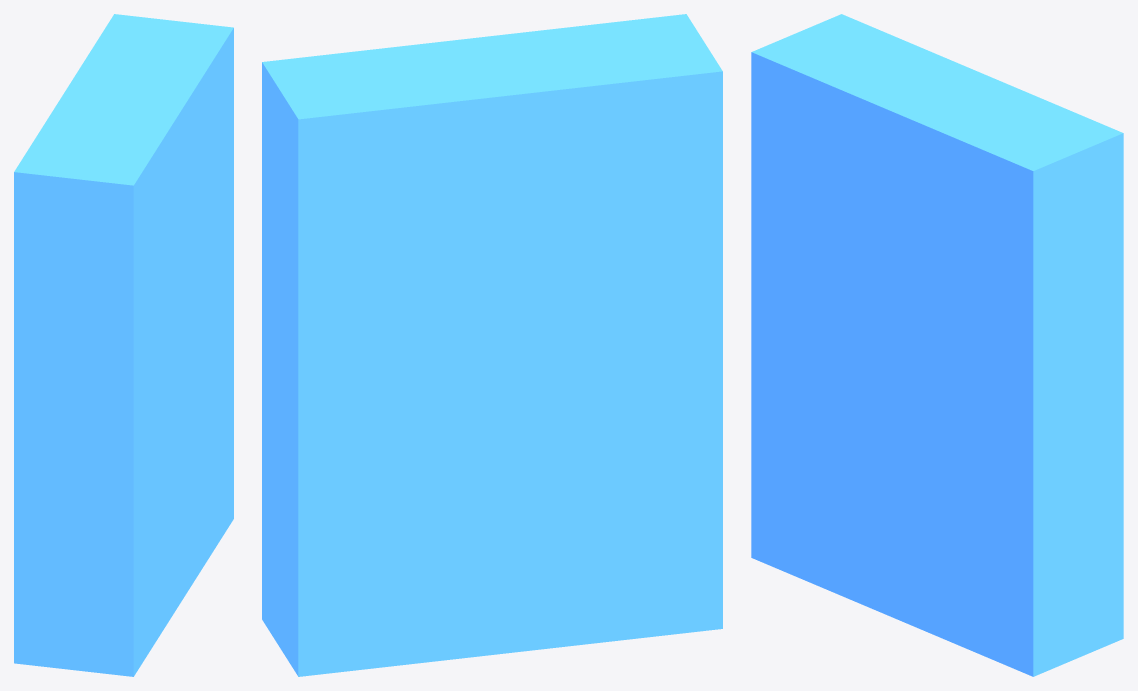
The model's file is P_ArmorShard.fbx.
3 renders of one model, left to right at view 1: azimuth 30°, elevation 25°; view 2: azimuth 150°, elevation 25°; view 3: azimuth 270°, elevation 25°, orthographic. The views are drawn at different scales.
Parts seen in each view (by area): view 1: P_ArmorShard; view 2: P_ArmorShard; view 3: P_ArmorShard.
Part boxes in pixels (x1,y1,x2,y2): P_ArmorShard: (14,14,233,676); P_ArmorShard: (262,14,722,676); P_ArmorShard: (751,14,1123,676).
Bounding box in the file's own units: 0.2333 × 0.35 × 0.2333.
